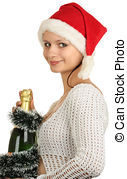face: (35, 8, 93, 80)
